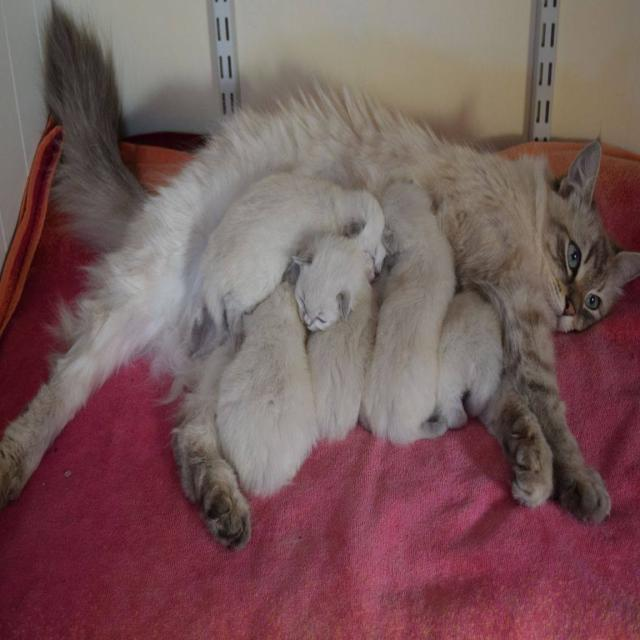Neva Masquerade: (0, 6, 640, 556)
